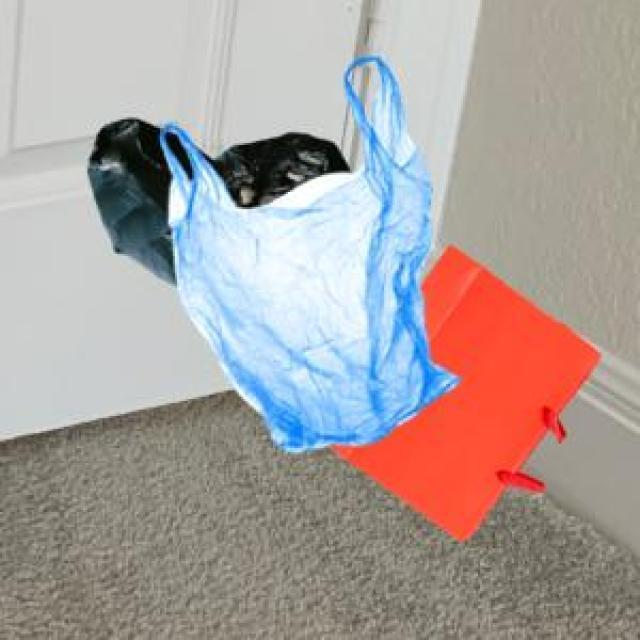miscellaneous trash: (83, 115, 346, 282)
paper: (324, 241, 595, 538)
